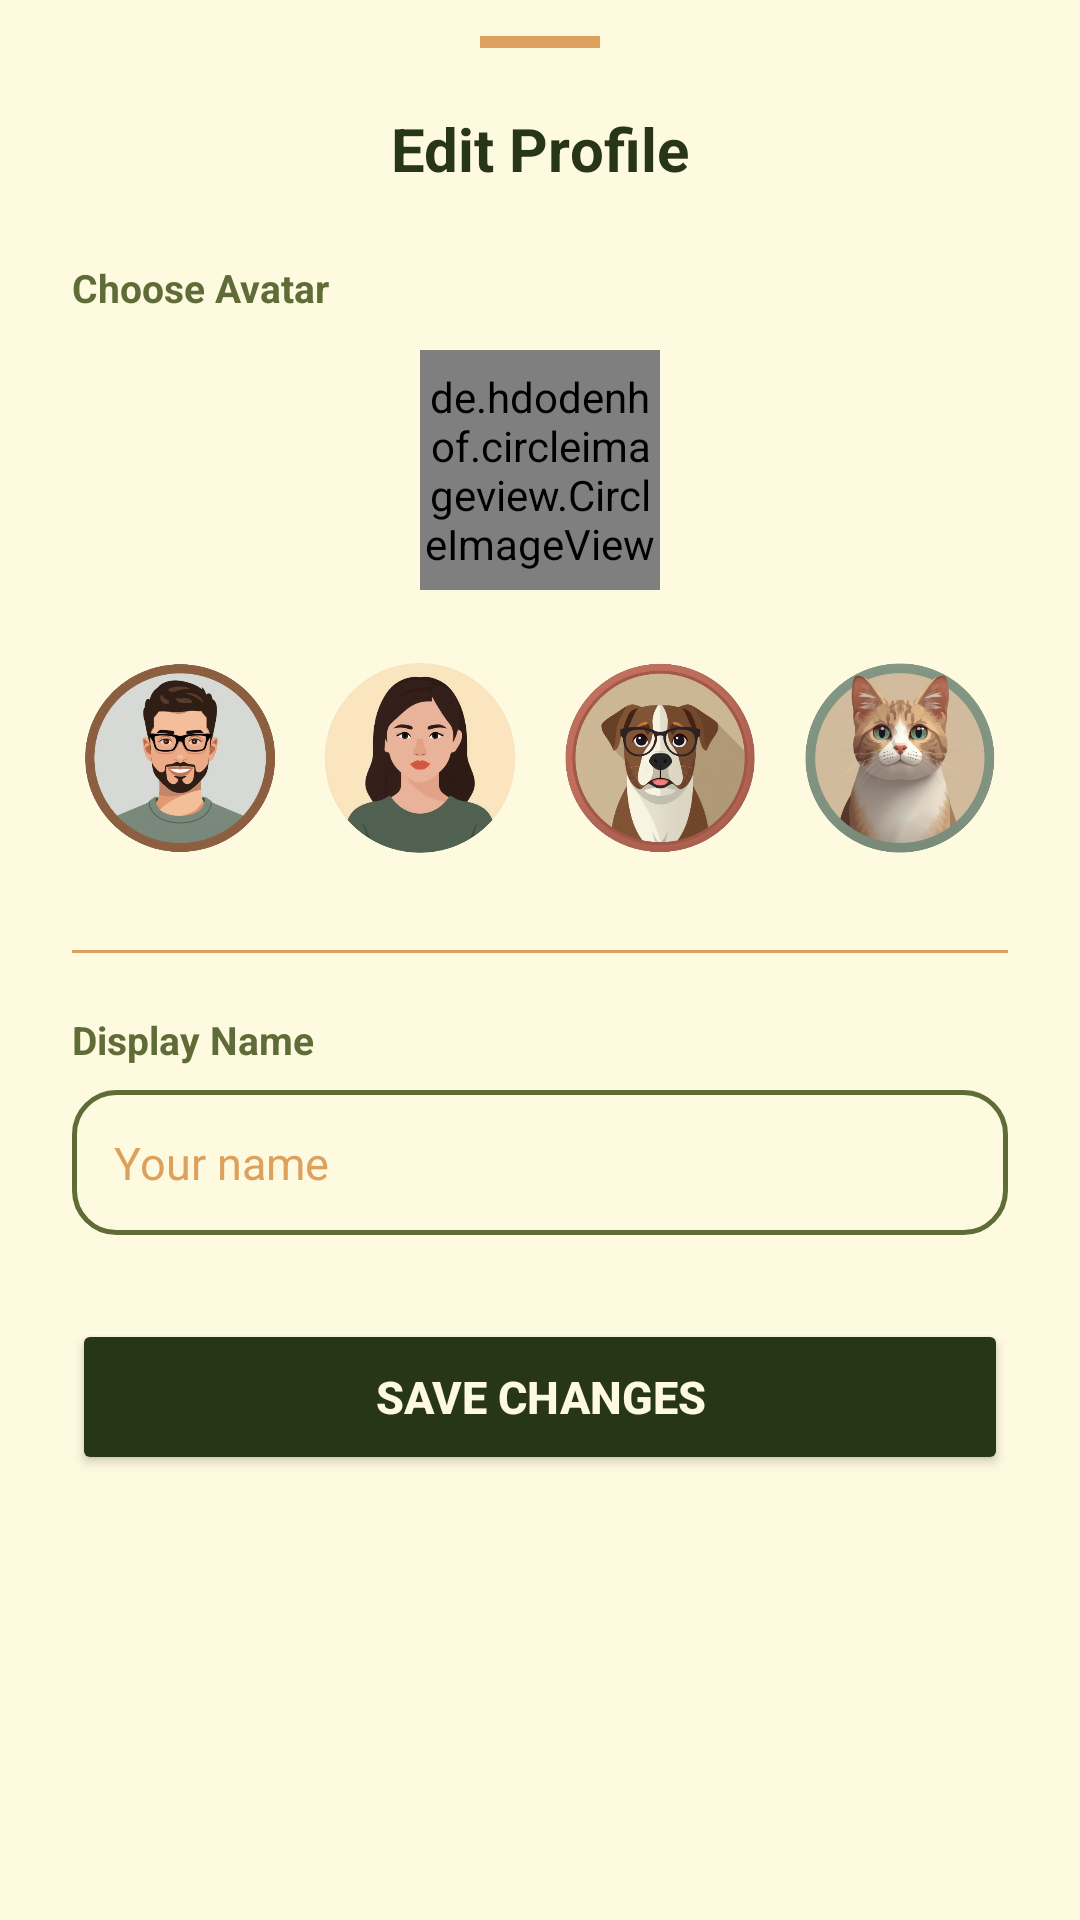

Point at icon controls on the screen. Image size 1080px×1920px, points as point (x, y).
cat: point (899, 758)
dog: point (660, 758)
man: point (180, 758)
woman: point (420, 758)
